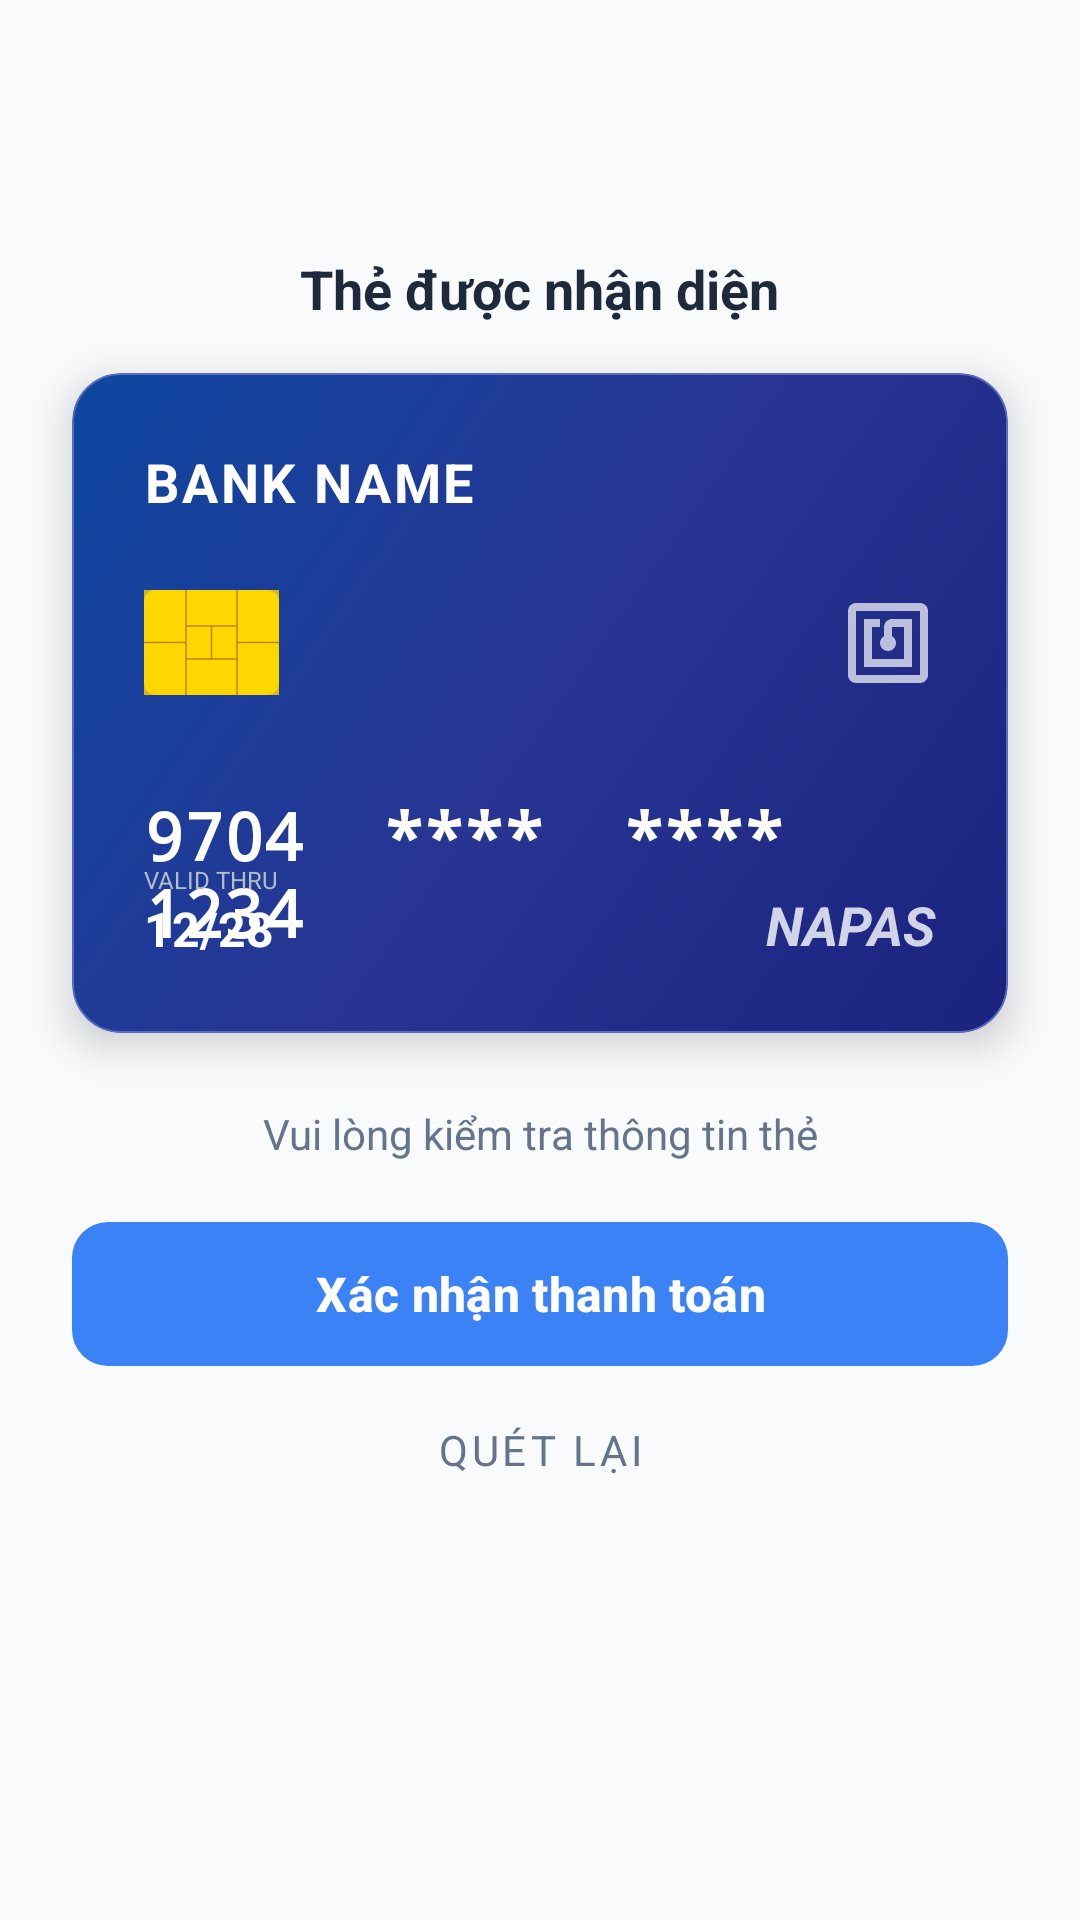

Icons on this 1080w x 1920h Android screen, each with its box as (x1, y1, x2, y2):
sim chip simulated: (144, 590, 279, 695)
